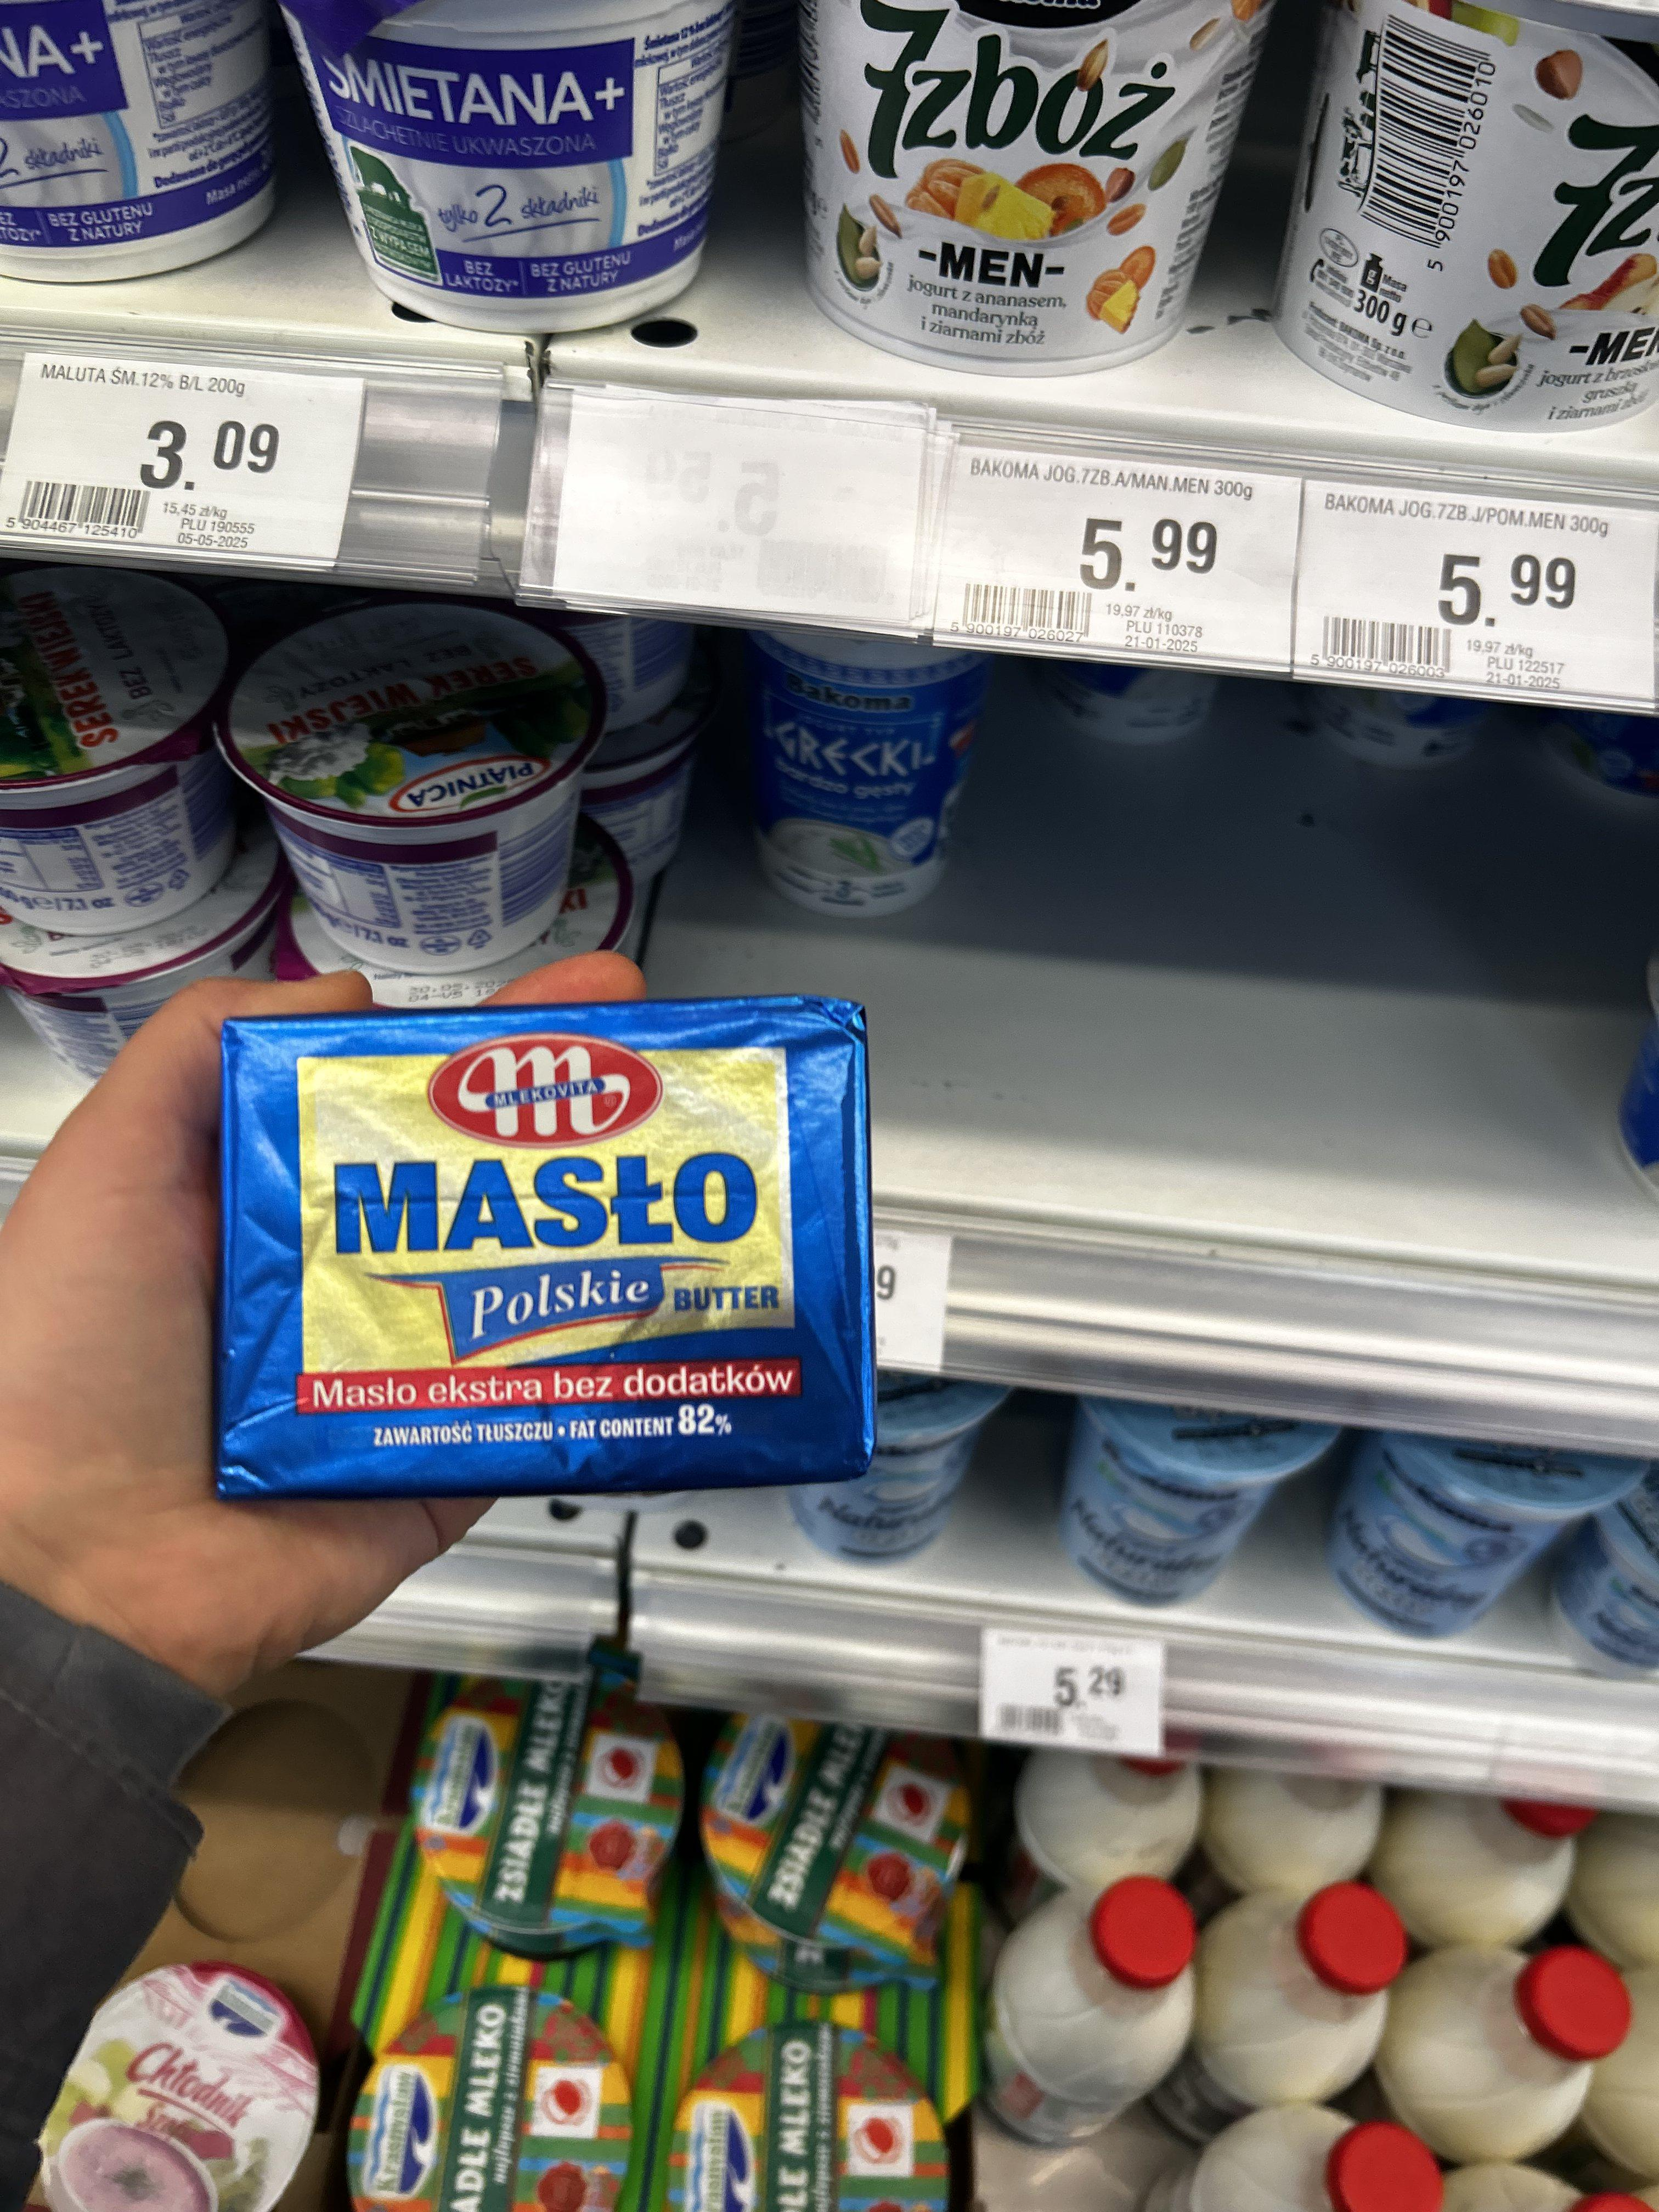Butter: (188, 991, 927, 1507)
